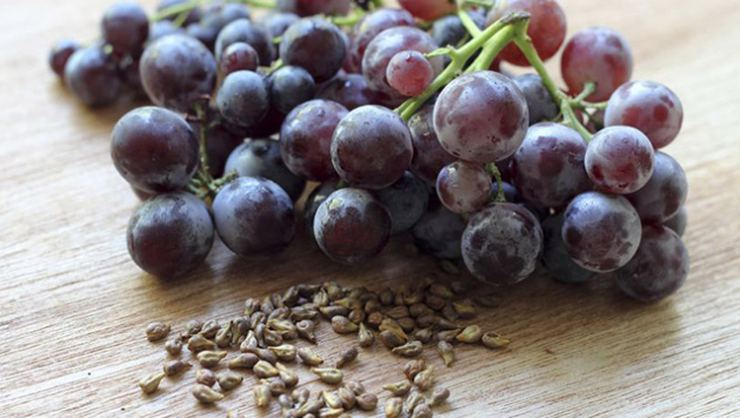Grape: (40, 1, 686, 301), (83, 96, 218, 192), (322, 104, 420, 194), (431, 76, 540, 155), (130, 193, 213, 279)
